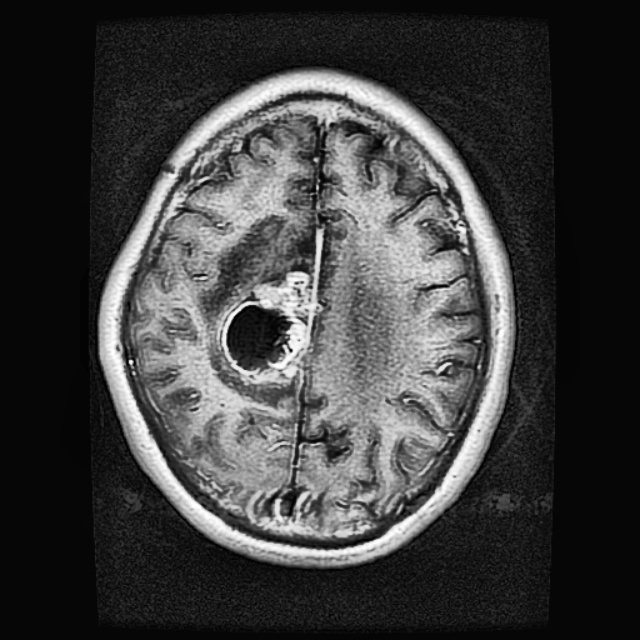Pituitary: (197, 198, 355, 405)
